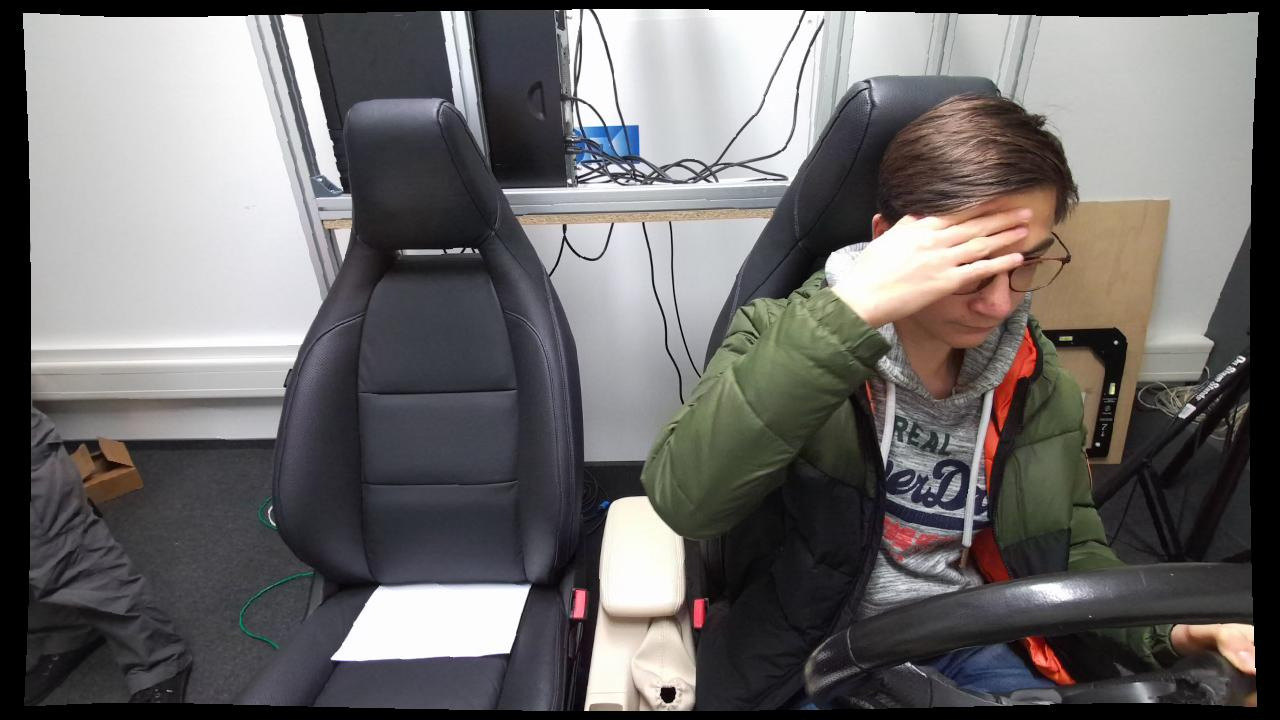Distracted: (638, 97, 1104, 708)
